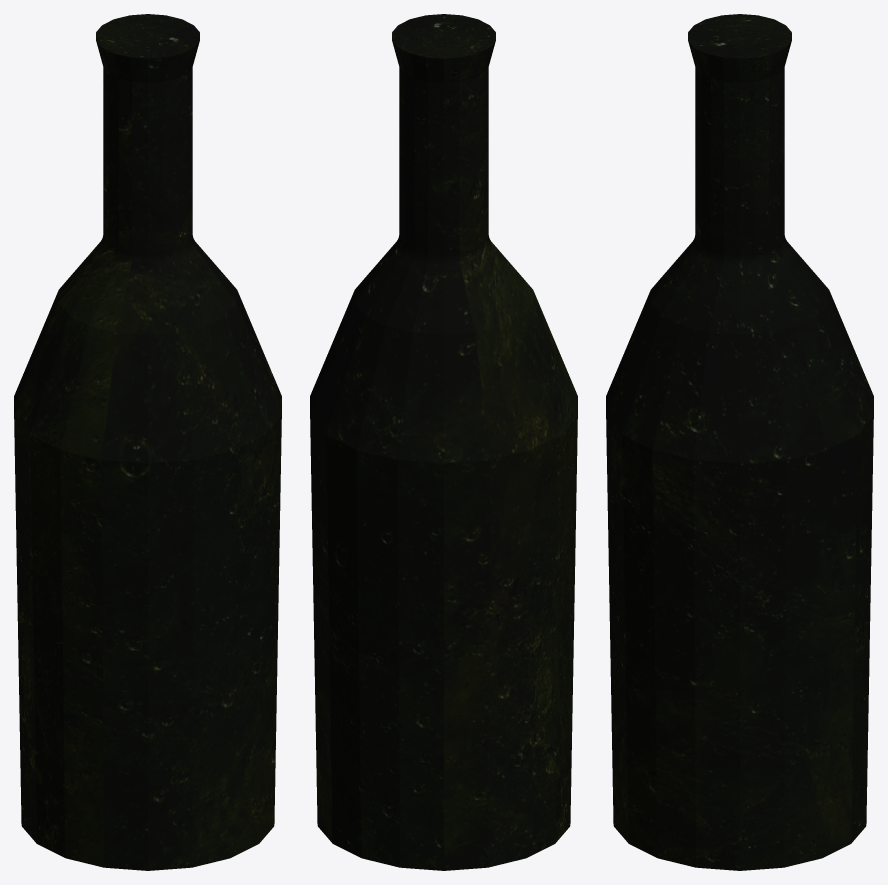
The model's file is wine-bottle-v01-photo.glb.
The picture shows the model from 3 angles, left to right: view 1: azimuth 30°, elevation 25°; view 2: azimuth 150°, elevation 25°; view 3: azimuth 270°, elevation 25°; orthographic projection.
Parts seen in each view (by area): view 1: wine-bottle; view 2: wine-bottle; view 3: wine-bottle.
Part boxes in pixels (left/top/right/bottom): wine-bottle: left=14, top=14, right=281, bottom=870; wine-bottle: left=310, top=14, right=577, bottom=870; wine-bottle: left=606, top=14, right=873, bottom=870.
Bounding box in the file's own units: 0.207 × 0.6555 × 0.2039.
1 material, 1 textured.
